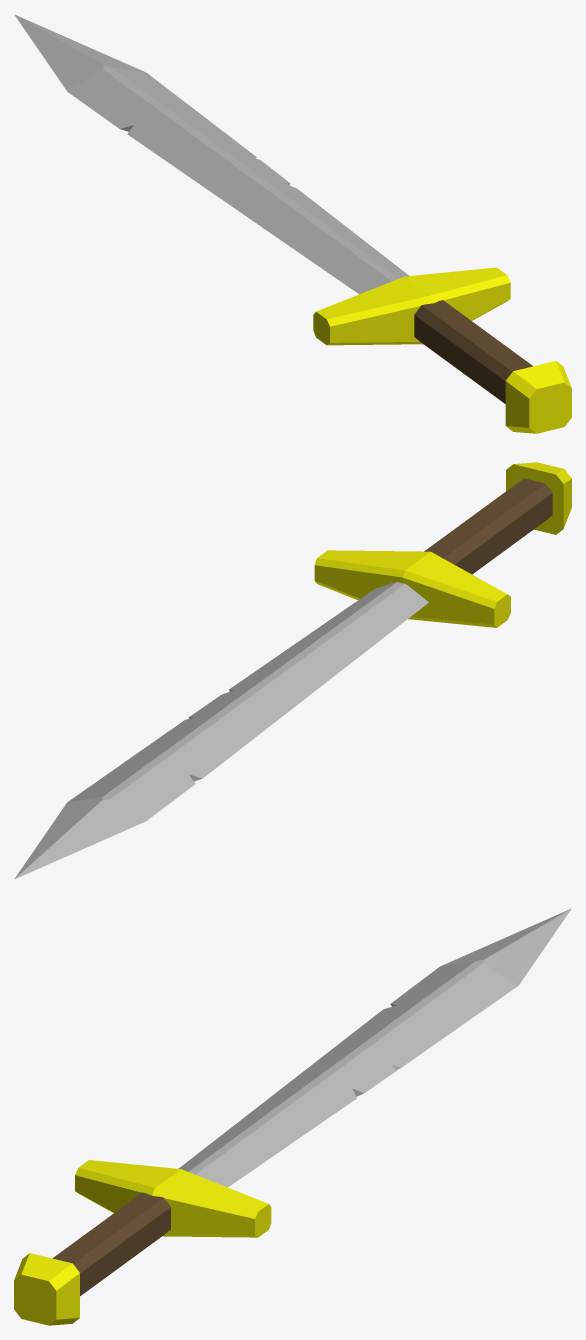
The model's file is sword.fbx.
3 renders of one model, top to bottom at view 1: azimuth 30°, elevation 25°; view 2: azimuth 150°, elevation 25°; view 3: azimuth 330°, elevation 25°, orthographic.
Parts seen in each view (by area): view 1: Blade, Guard, Grip, Pommel; view 2: Blade, Guard, Grip, Pommel; view 3: Blade, Guard, Grip, Pommel.
Part boxes in pixels (left/top/right/bottom): Blade: left=14, top=14, right=408, bottom=294; Guard: left=313, top=267, right=510, bottom=345; Grip: left=414, top=300, right=532, bottom=403; Pommel: left=505, top=361, right=571, bottom=433; Blade: left=14, top=582, right=428, bottom=879; Guard: left=314, top=550, right=510, bottom=627; Grip: left=424, top=478, right=552, bottom=574; Pommel: left=506, top=462, right=571, bottom=534; Blade: left=178, top=908, right=571, bottom=1187; Guard: left=75, top=1160, right=271, bottom=1237; Grip: left=52, top=1192, right=170, bottom=1295; Pommel: left=14, top=1253, right=79, bottom=1325.
Bounding box in the file's own units: 0.7914 × 4.08 × 0.2538.
